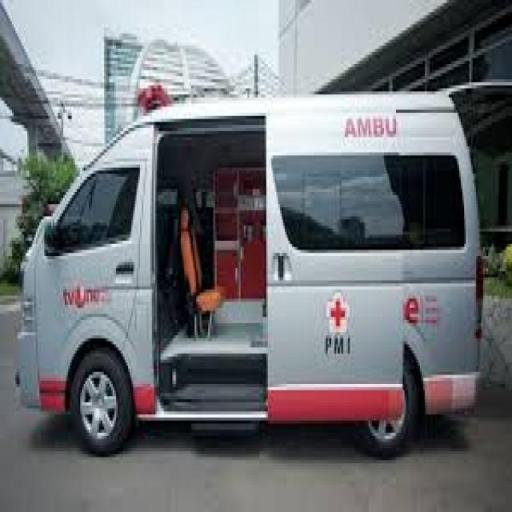Police car: (18, 92, 480, 457)
